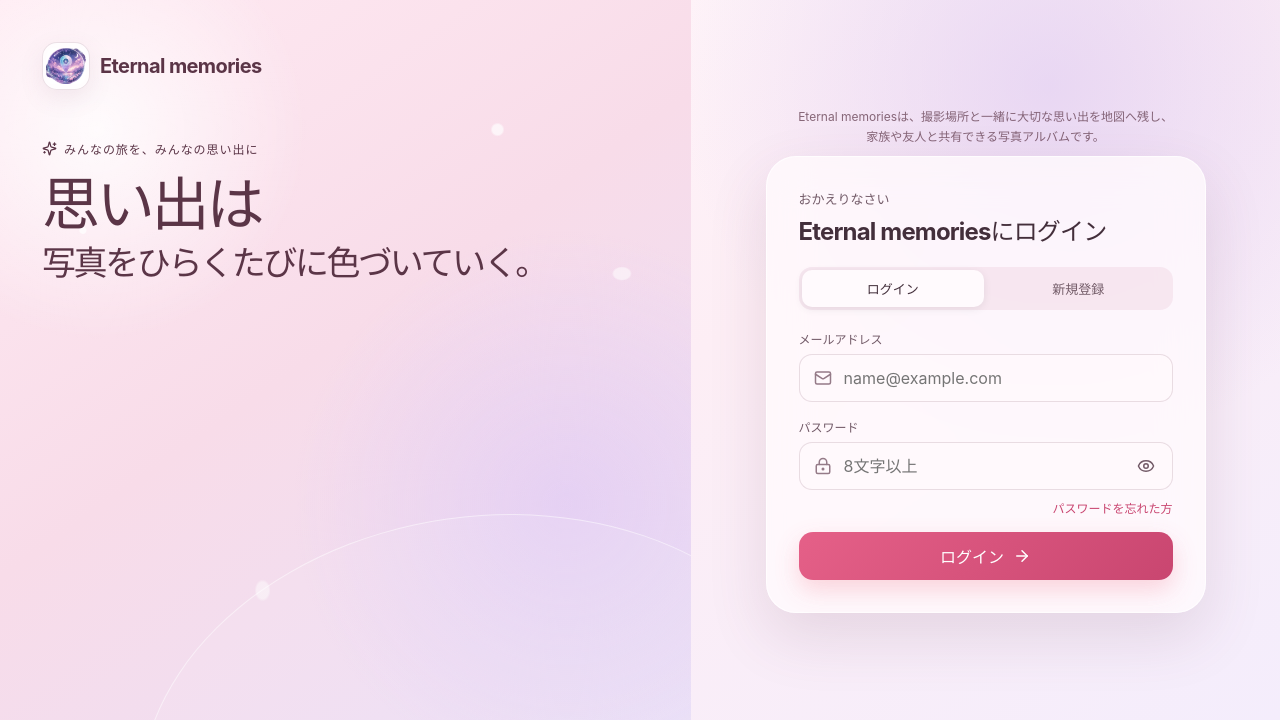
認証画面 › ログインエラーを日本語で表示する
Type "hana@example.com" into the field labelled "メールアドレス".
click(1000, 378); type("hana@example.com")  # box top-left (842, 367), bottom-right (1158, 389)
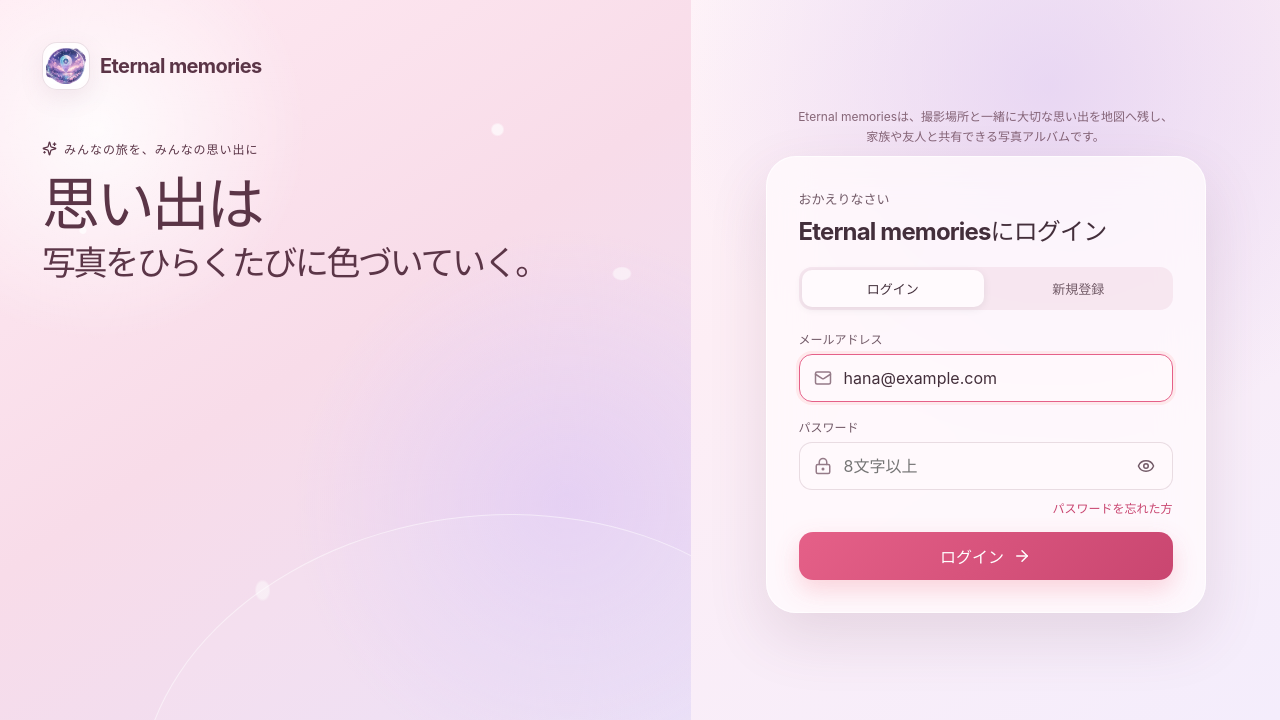
Type "incorrect" into the password field labelled "パスワード".
click(978, 466); type("incorrect")  # box top-left (842, 455), bottom-right (1114, 477)
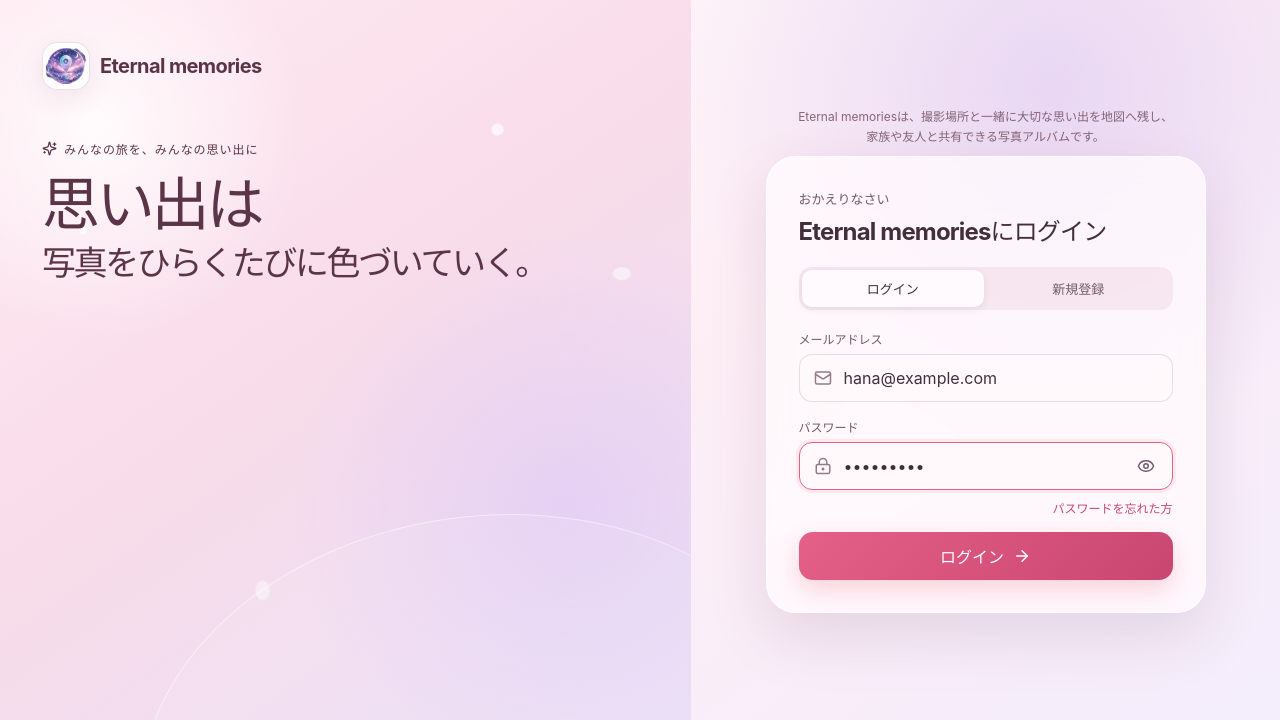
Click the button "ログイン" below "メールアドレス".
click(986, 556)  # box top-left (799, 532), bottom-right (1173, 580)
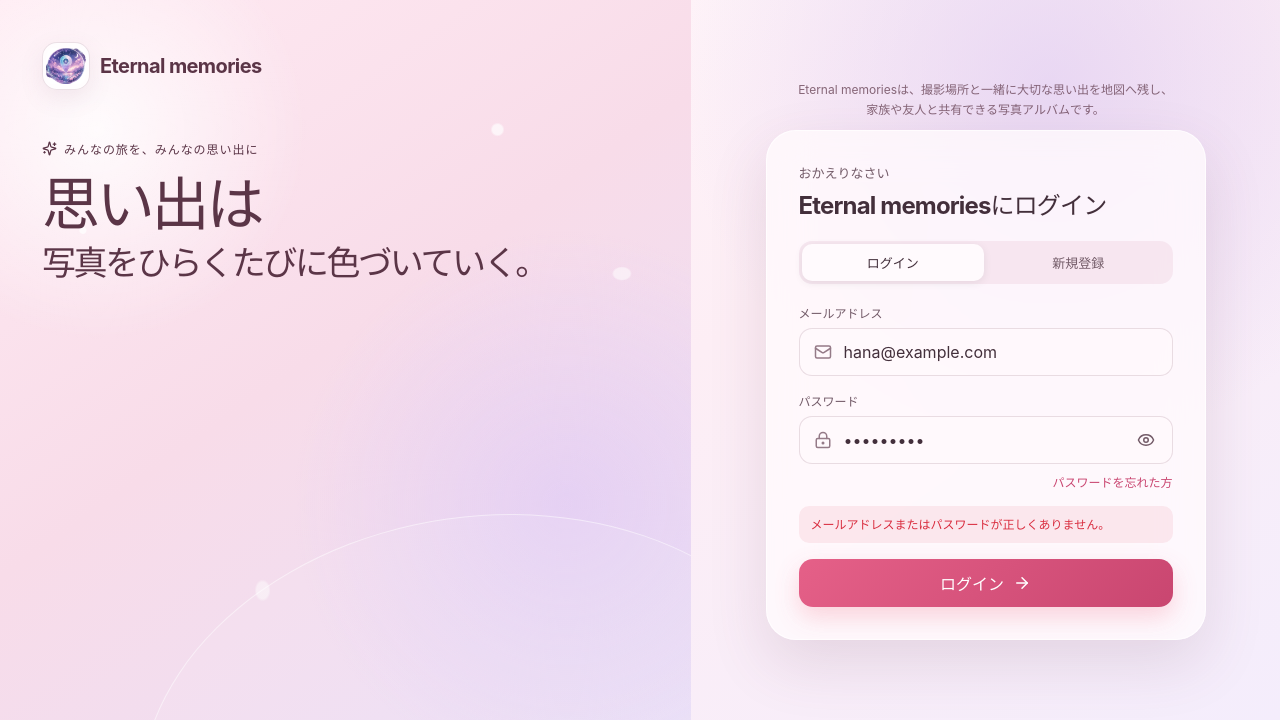
Expected: the message reads "メールアドレスまたはパスワードが正しくありません。", top-left (811, 517), bottom-right (1110, 532)
